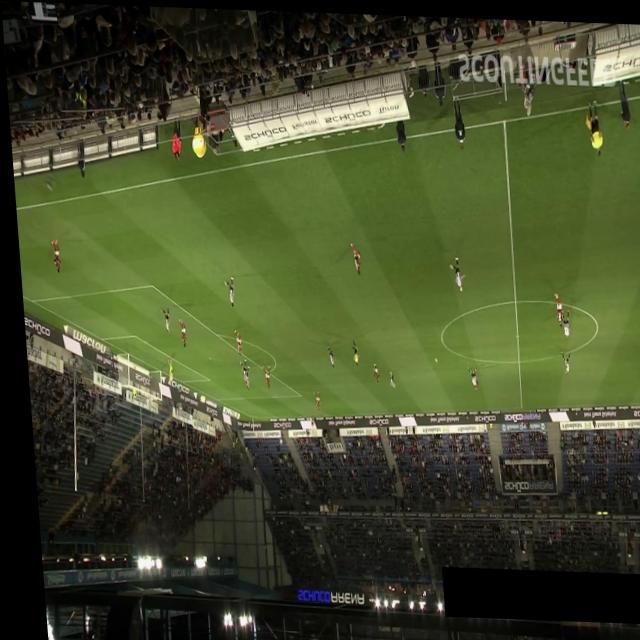goalkeeper: (161, 357, 168, 381)
player: (445, 252, 461, 288), (345, 238, 357, 272), (219, 273, 230, 305), (549, 288, 559, 323), (46, 238, 56, 272), (154, 303, 166, 331), (556, 303, 566, 334), (554, 347, 566, 371), (255, 362, 266, 387), (228, 328, 237, 354), (173, 316, 181, 345), (346, 336, 354, 364), (237, 360, 245, 388), (233, 355, 241, 382), (461, 363, 471, 383), (321, 343, 329, 364), (465, 366, 472, 388), (306, 388, 314, 407), (366, 361, 374, 380), (383, 369, 390, 385)
referee: (582, 93, 601, 151), (302, 411, 308, 431)
